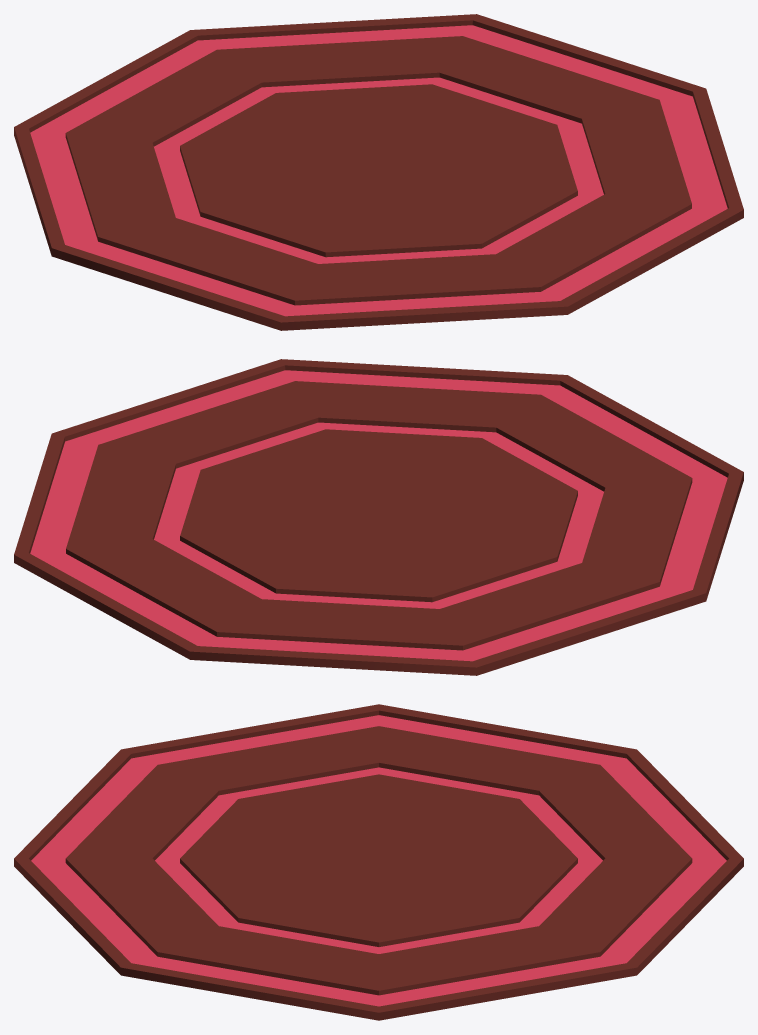
File: Itr_Carpet1_01.FBX
3 renders of one model, top to bottom at view 1: azimuth 30°, elevation 25°; view 2: azimuth 150°, elevation 25°; view 3: azimuth 270°, elevation 25°, orthographic. The views are drawn at different scales.
Visible parts, largest first — view 1: Itr_Carpet1_01; view 2: Itr_Carpet1_01; view 3: Itr_Carpet1_01.
Boxes of the visible parts, x1,y1,x2,y2 form: Itr_Carpet1_01: (14,14,743,330); Itr_Carpet1_01: (14,359,743,675); Itr_Carpet1_01: (14,704,743,1020).
Size of the model in its own units: 121 by 1.46 by 121.
